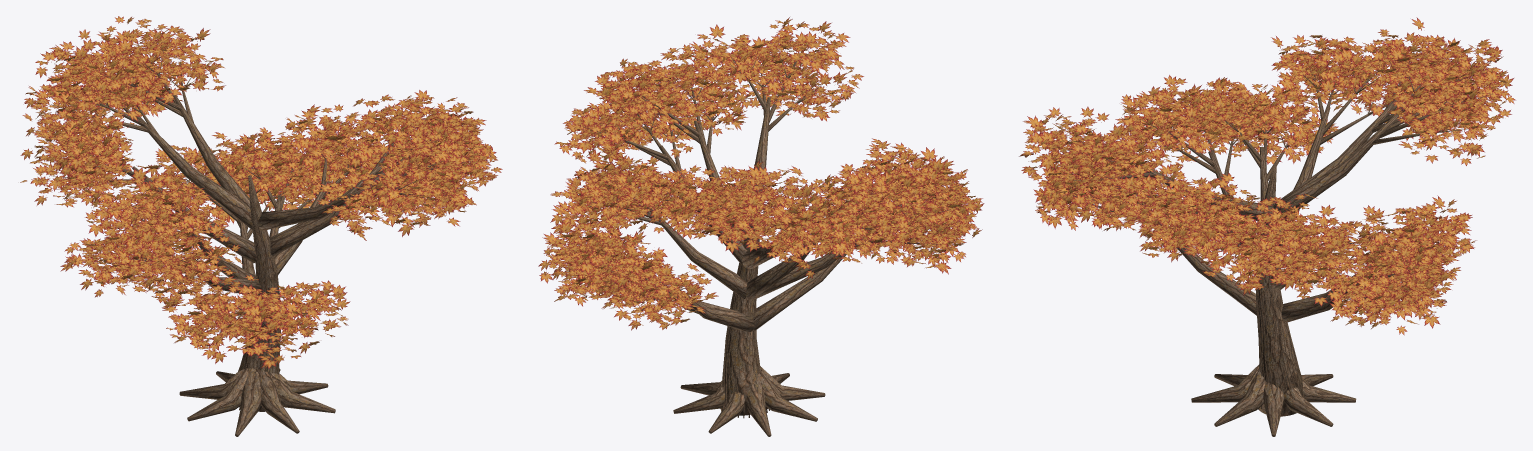
File: MaplePolish_1_Near.fbx
3 renders of one model, left to right at view 1: azimuth 30°, elevation 25°; view 2: azimuth 150°, elevation 25°; view 3: azimuth 270°, elevation 25°, orthographic. The views are drawn at different scales.
Visible parts, largest first — view 1: MaplePolish_1_Near_Leaves, MaplePolish_1_Near_Wood; view 2: MaplePolish_1_Near_Leaves, MaplePolish_1_Near_Wood; view 3: MaplePolish_1_Near_Leaves, MaplePolish_1_Near_Wood.
Part boxes in pixels (x1,y1,x2,y2): MaplePolish_1_Near_Leaves: (20, 16, 502, 368); MaplePolish_1_Near_Wood: (51, 44, 472, 436); MaplePolish_1_Near_Leaves: (538, 17, 984, 330); MaplePolish_1_Near_Wood: (577, 43, 950, 436); MaplePolish_1_Near_Leaves: (1019, 17, 1515, 335); MaplePolish_1_Near_Wood: (1044, 48, 1492, 436).
Size of the model in its own units: 11.69 by 8.73 by 12.24.
